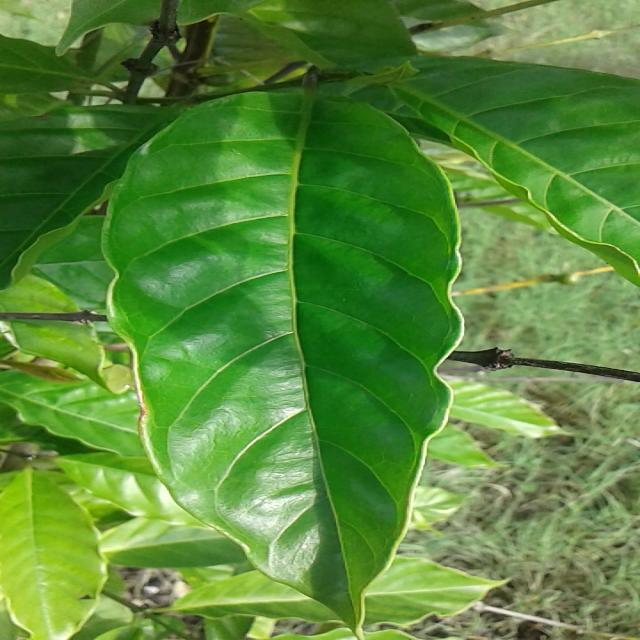Sanas: (95, 94, 464, 630)
